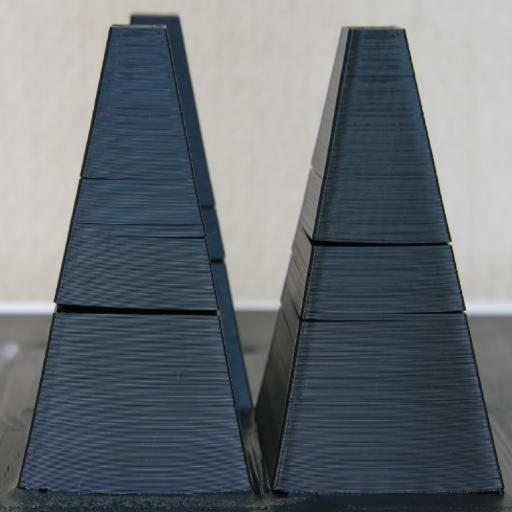cracks: (56, 288, 218, 338), (304, 300, 471, 336), (308, 230, 456, 264)
